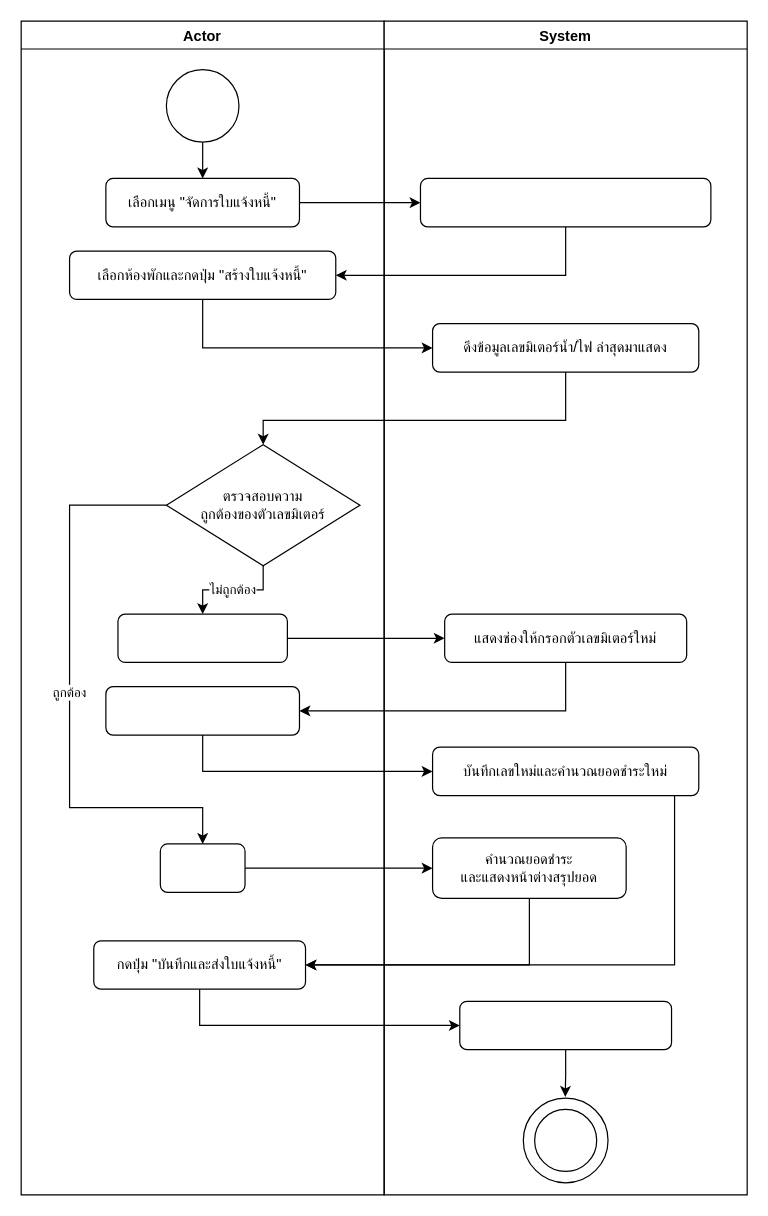
Some shapes in this 768 by 1216 pixel diagram are drawn without their labels. Each missing label, with the box of its shape:
กดปุ่ม "แก้ไขค่ามิเตอร์": (117, 613, 287, 662)
กดยืนยัน: (159, 843, 245, 892)
กรอกตัวเลขใหม่และกดยืนยัน: (105, 685, 299, 735)
บันทึกข้อมูลและแสดง Modal "สร้างใบแจ้งหนี้สำเร็จ": (459, 1000, 672, 1050)
แสดงรายชื่อห้องพักและสถานะการออกบิล: (419, 177, 711, 227)
